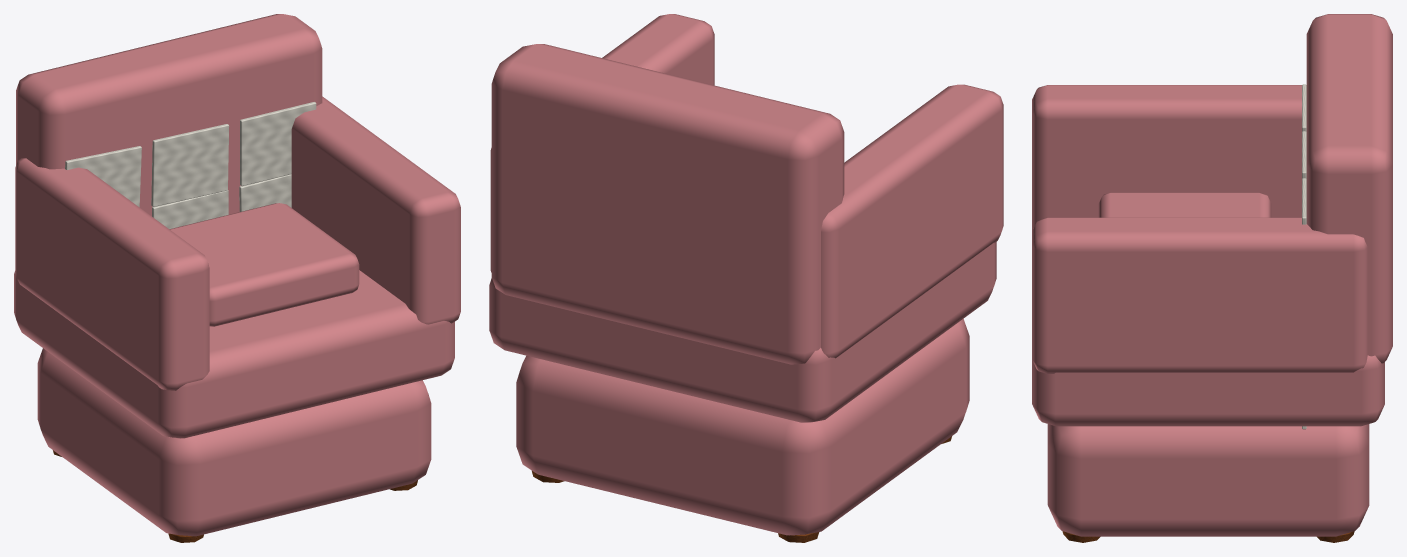
Rendered from prlArmchair.glb.
The picture shows the model from 3 angles, left to right: view 1: azimuth 30°, elevation 25°; view 2: azimuth 150°, elevation 25°; view 3: azimuth 270°, elevation 25°; orthographic projection. The views are drawn at different scales.
Parts seen in each view (by area): view 1: patchwork-armchair; view 2: patchwork-armchair; view 3: patchwork-armchair.
Boxes of the visible parts, box(x1,y1,x2,y2) form: patchwork-armchair: box(14, 14, 460, 542); patchwork-armchair: box(489, 14, 1003, 542); patchwork-armchair: box(1032, 14, 1392, 542).
Bounding box in the file's own units: 0.96 × 1.12 × 0.92.
Materials: 3 (2 with a texture image).
